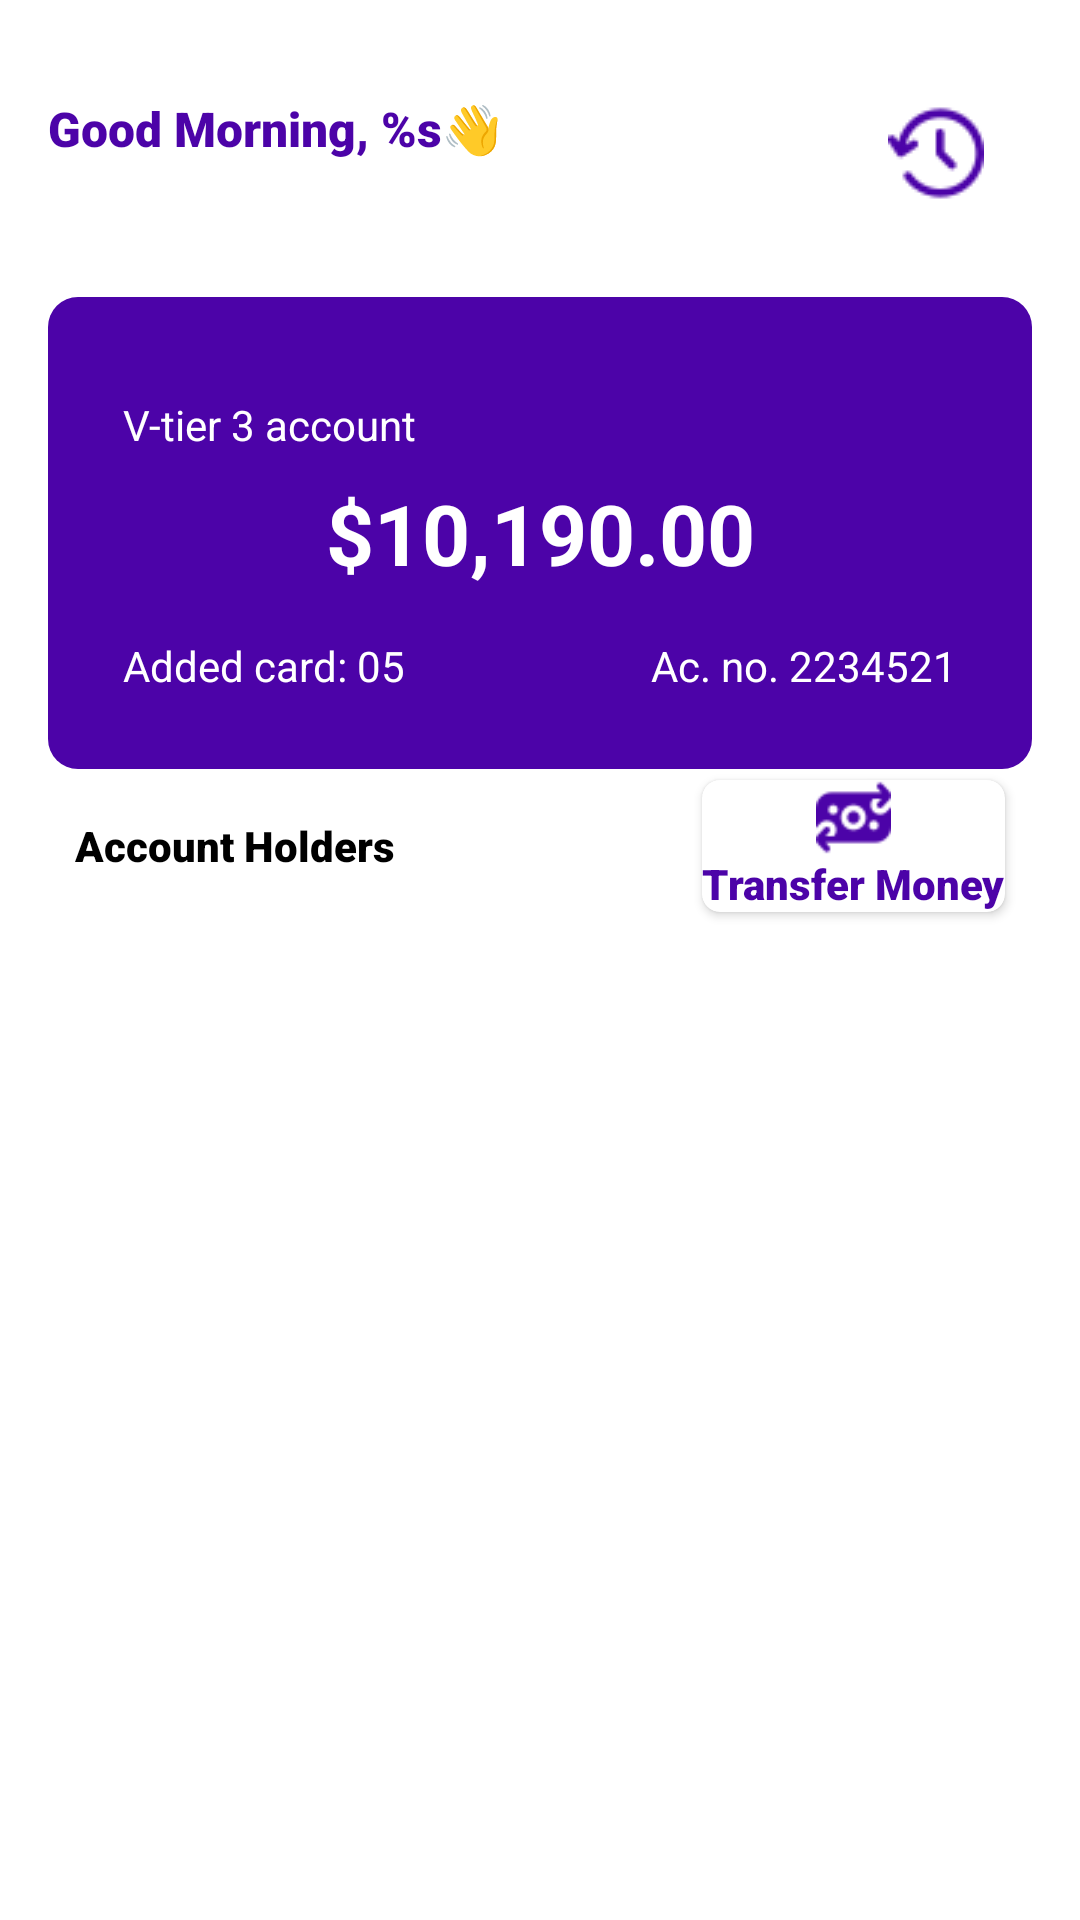

Locate icon controls on the screen. Image size 1080w x 1920h, boxes as bbox=[x1, y1, x2, y2].
history: bbox=[888, 107, 984, 199]
